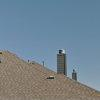Chimney: (50, 40, 74, 79)
